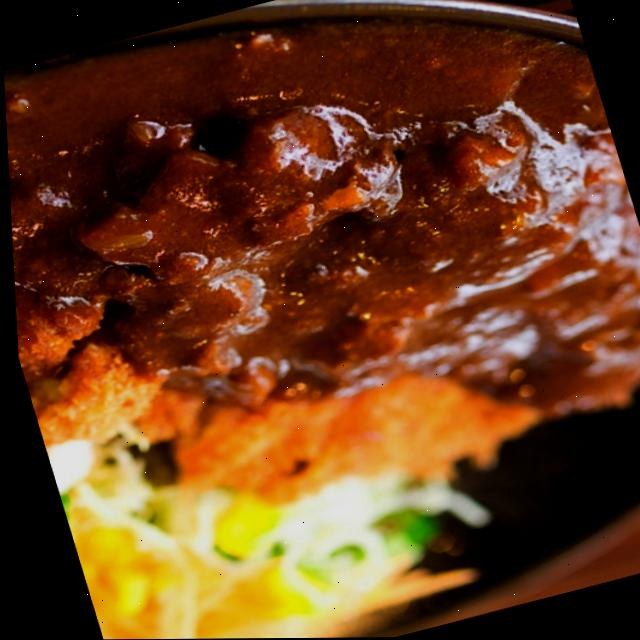鸡肉料理 含炸鸡: (1, 20, 640, 542)
